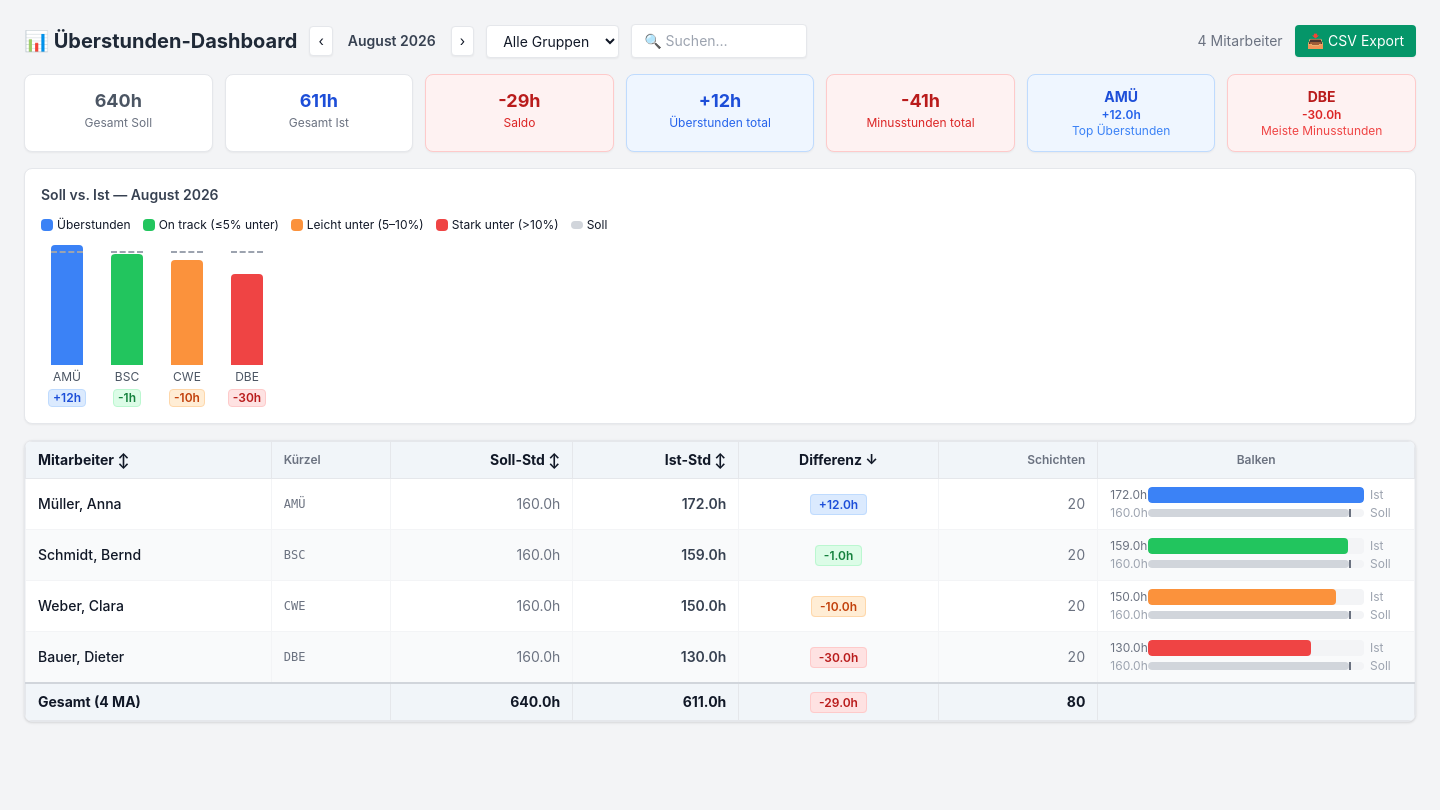
Test: OvertimeDashboard › filters rows by search input
This screenshot has width=1440, height=810.
Check: the text "Müller, Anna" is shown, box 26,478 -> 271,530
Type "Weber" into the field with placeholder "🔍 Suchen…" at (719, 41), box 631,24 -> 807,58
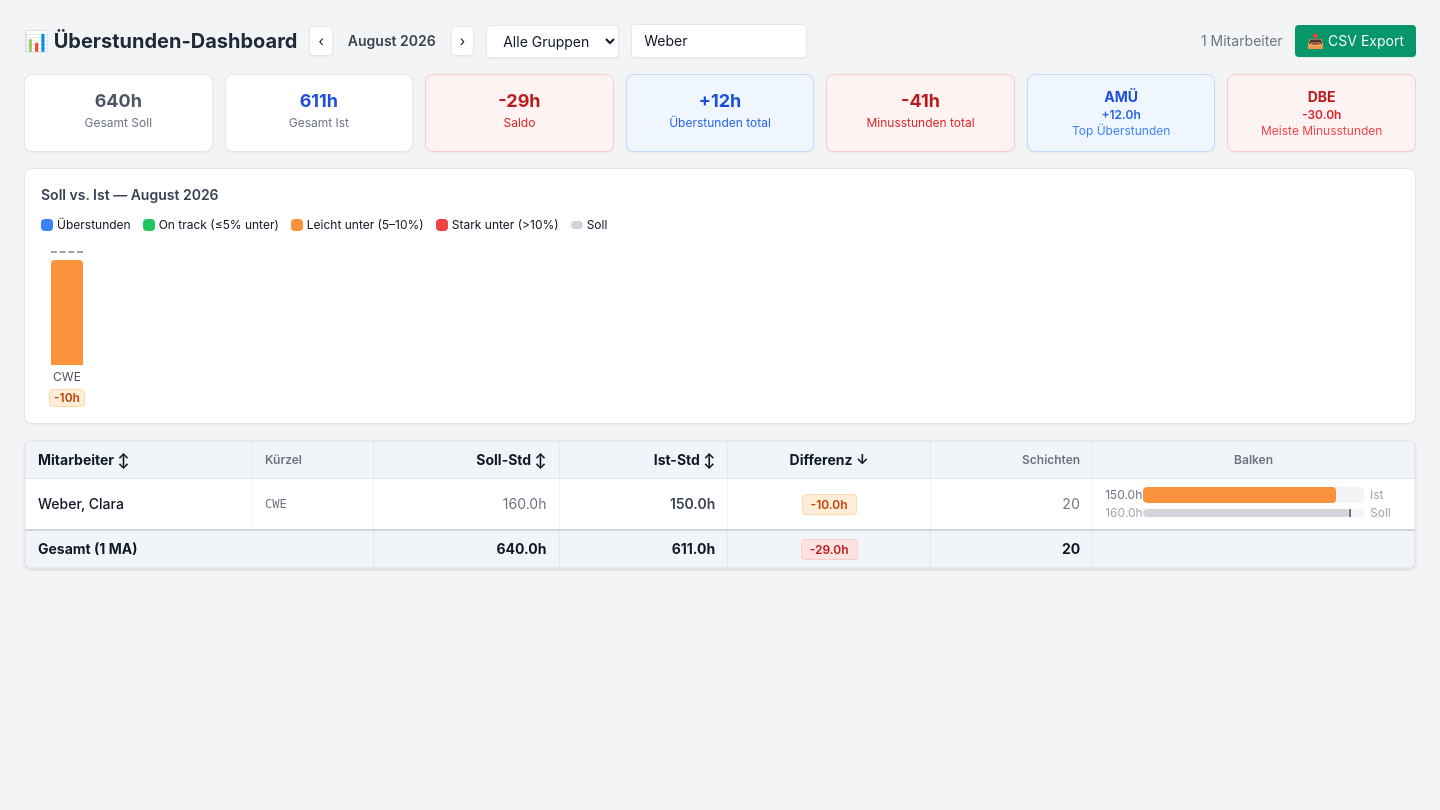
Check: the text "Weber, Clara" is shown, box 26,478 -> 252,530
Check: the text "Müller, Anna" is gone
